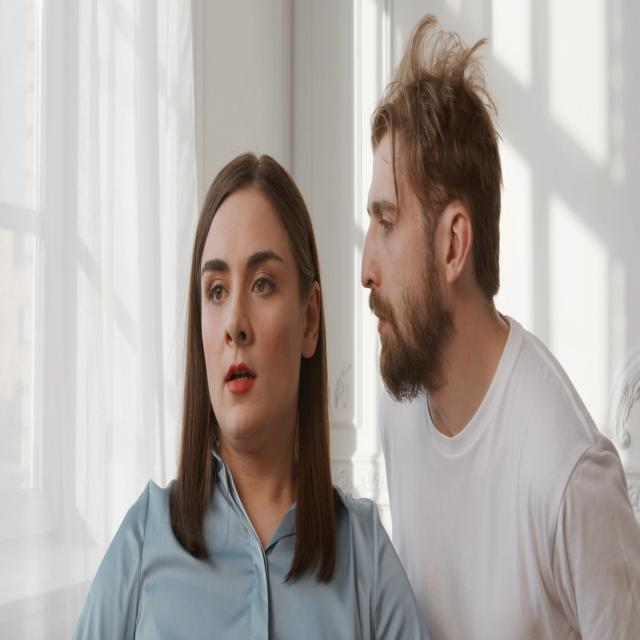Convinsing: (360, 58, 516, 422)
angry: (187, 181, 321, 521)
